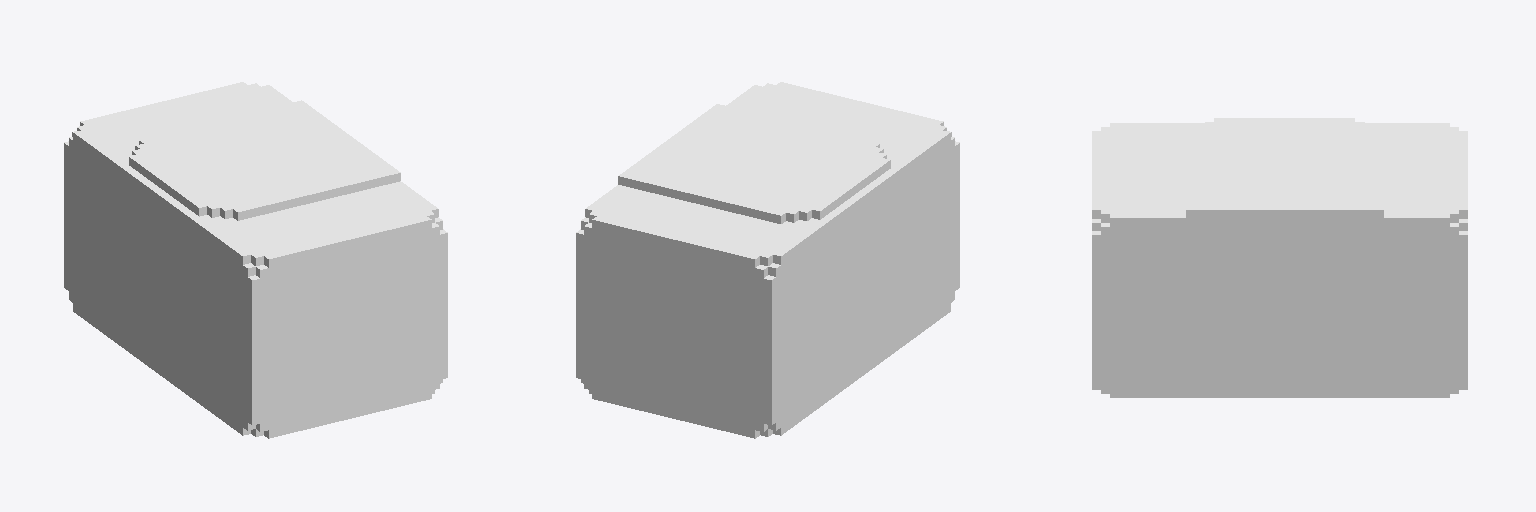
Rendered from taxLvlIcon.obj.
The picture shows the model from 3 angles: view 1: azimuth 30°, elevation 25°; view 2: azimuth 150°, elevation 25°; view 3: azimuth 270°, elevation 25°; orthographic projection.
Visible parts, largest first — view 1: object 1; view 2: object 1; view 3: object 1.
Boxes of the visible parts, <box> form: object 1: <box>64,82,447,438</box>; object 1: <box>576,82,959,438</box>; object 1: <box>1092,118,1467,397</box>.
Bounding box in the file's own units: 2.4 × 2.2 × 4.